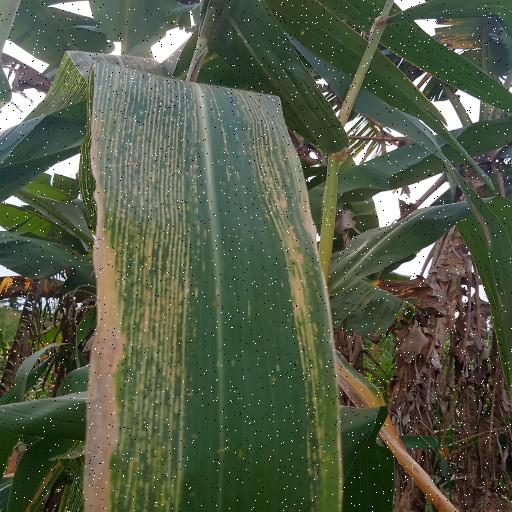Corn_Streak: (51, 47, 350, 512)
